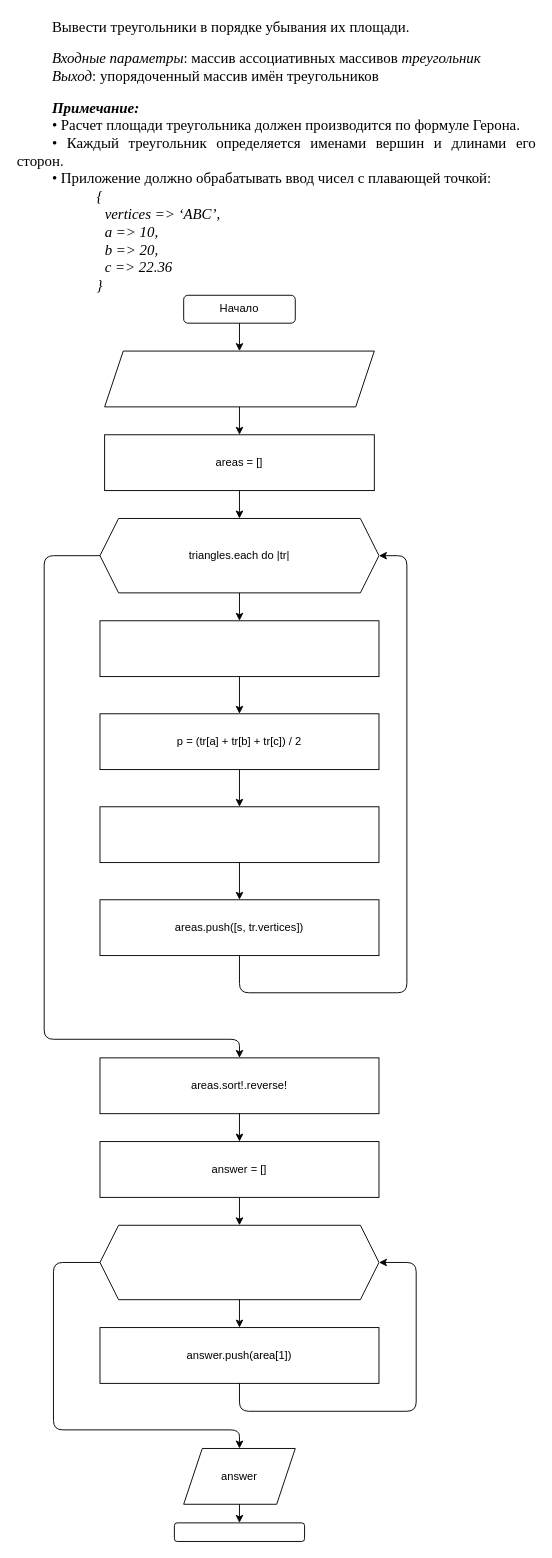
This 552x1558 diagram has some shape labels left out. The centre of each missing label's shape, as x and y in pixels:
a, b, c = tr.vertices.downcase.split(//): [239,648]
areas.each do |area|: [239,1262]
s = Math.sqrt(p * (p - tr[a]) * (p - tr[b]) * (p - tr[c])): [239,834]
triangles - [{}, {}, {},...]: [239,378]
Конец: [239,1531]
